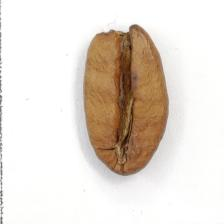NG: (92, 23, 146, 111)
